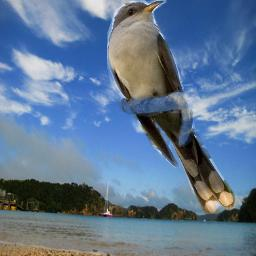Cuckoo: (107, 0, 235, 214)
